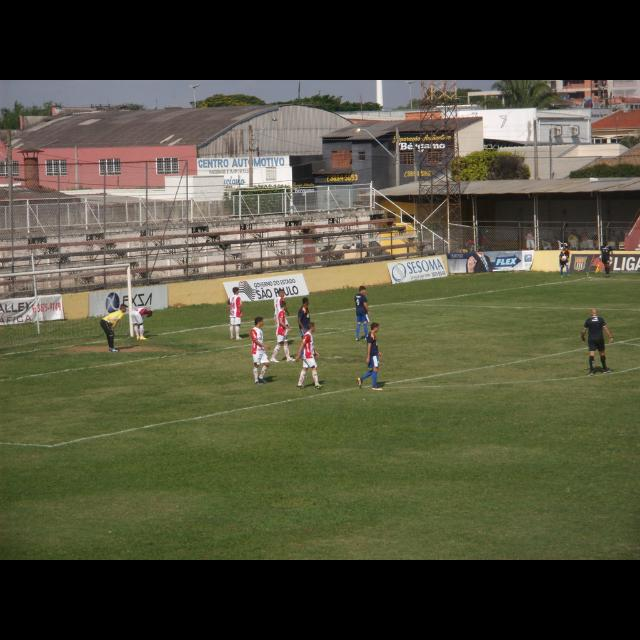Football: (561, 254, 565, 260)
